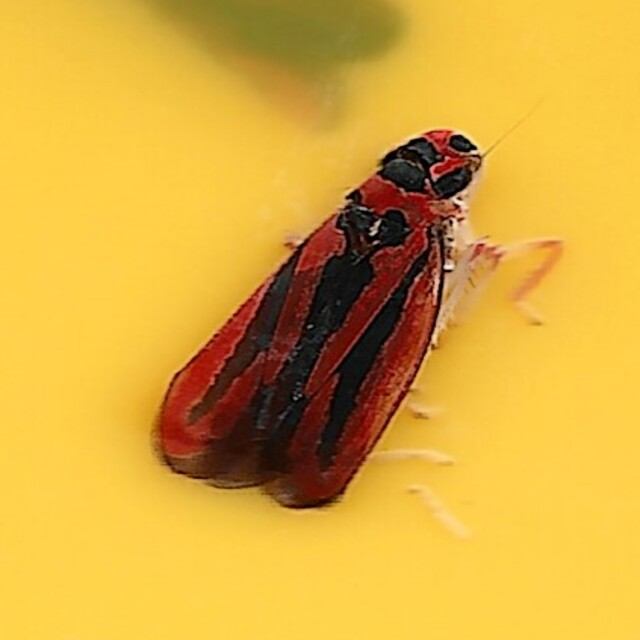Hemiptera: (151, 124, 489, 516)
